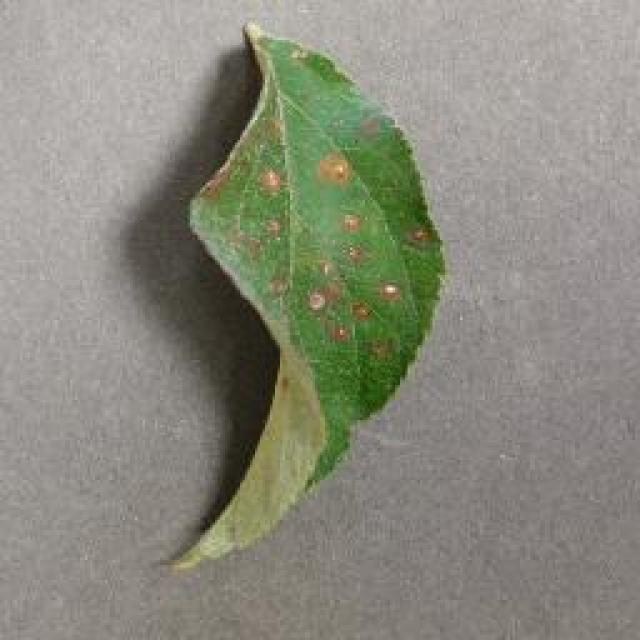apple scab disease: (160, 18, 448, 572)
